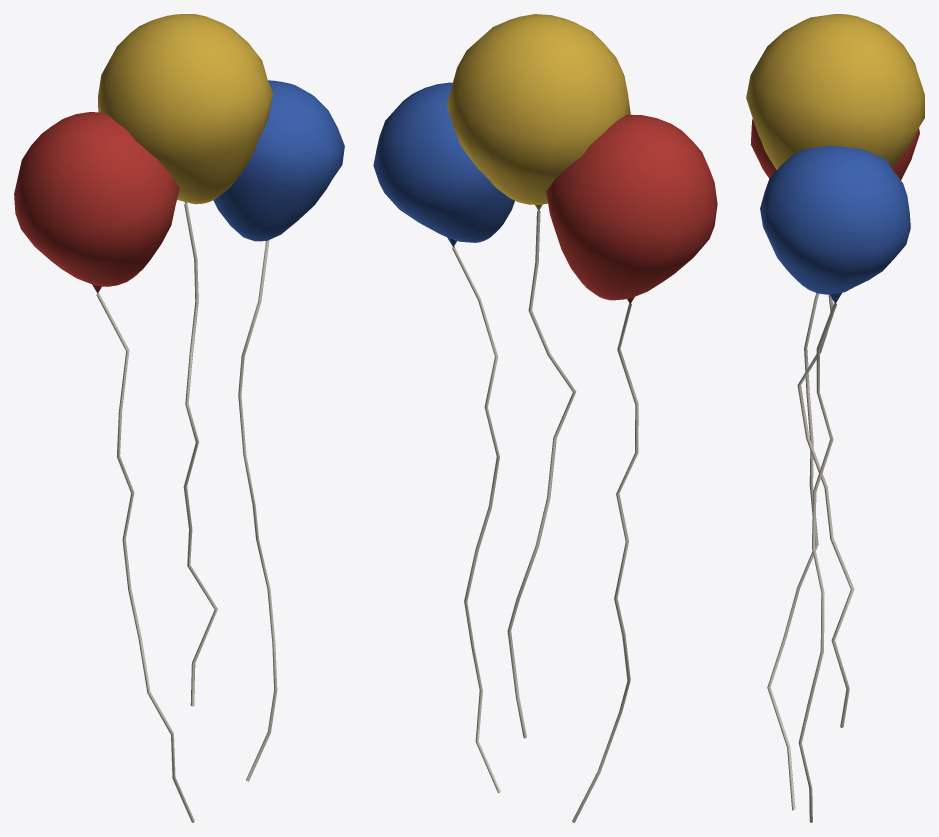
Rendered from balloons.glb.
3 renders of one model, left to right at view 1: azimuth 30°, elevation 25°; view 2: azimuth 150°, elevation 25°; view 3: azimuth 270°, elevation 25°, orthographic. The views are drawn at different scales.
Visible parts, largest first — view 1: balloon_yellow, balloon_red, balloon_blue, string_blue; view 2: balloon_yellow, balloon_red, balloon_blue, string_blue; view 3: balloon_yellow, balloon_blue, string_blue, balloon_red.
Part boxes in pixels (x1=…): balloon_yellow: x1=98, y1=14, x2=272, y2=204; balloon_red: x1=14, y1=112, x2=179, y2=293; balloon_blue: x1=213, y1=80, x2=344, y2=241; string_blue: x1=96, y1=203, x2=277, y2=822; balloon_yellow: x1=447, y1=14, x2=630, y2=210; balloon_red: x1=546, y1=114, x2=717, y2=304; balloon_blue: x1=373, y1=82, x2=514, y2=246; string_blue: x1=452, y1=210, x2=638, y2=822; balloon_yellow: x1=746, y1=14, x2=924, y2=169; balloon_blue: x1=760, y1=145, x2=910, y2=303; string_blue: x1=767, y1=293, x2=854, y2=822; balloon_red: x1=750, y1=119, x2=919, y2=179.
Bounding box in the file's own units: 0.8129 × 1.98 × 0.4031.
